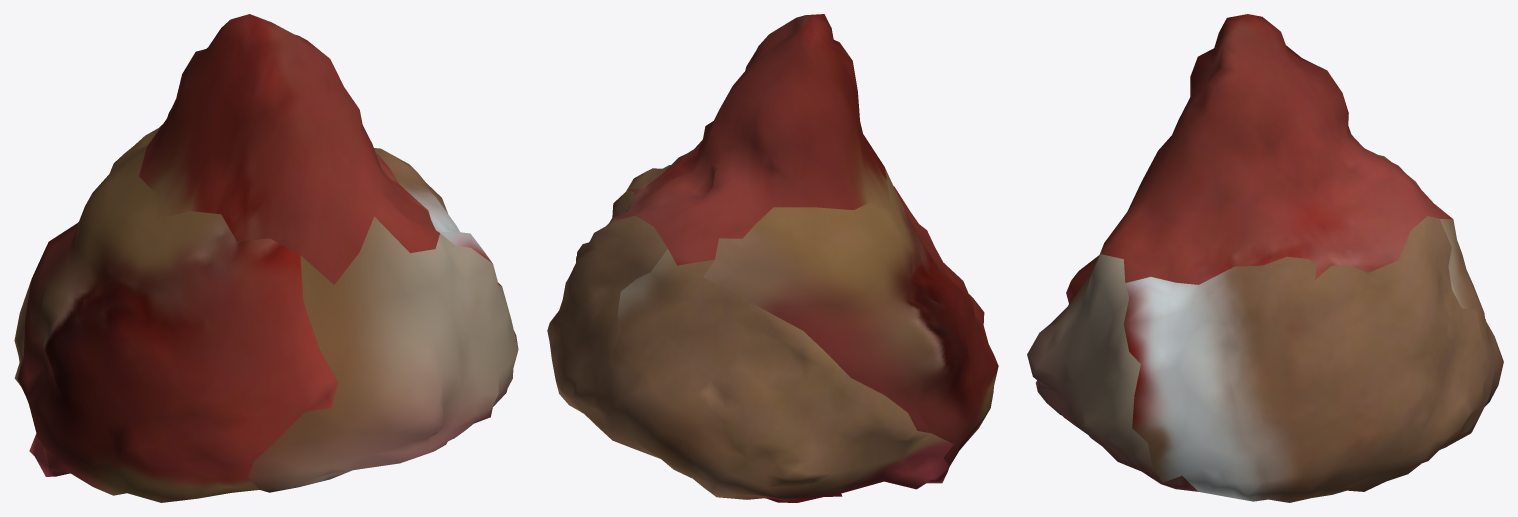
Rendered from yam_peek.fbx.
The picture shows the model from 3 angles, left to right: view 1: azimuth 30°, elevation 25°; view 2: azimuth 150°, elevation 25°; view 3: azimuth 270°, elevation 25°; orthographic projection. The views are drawn at different scales.
Parts seen in each view (by area): view 1: yam_vine_base; view 2: yam_vine_base; view 3: yam_vine_base.
Part boxes in pixels (x1,y1,x2,y2): yam_vine_base: [14, 14, 518, 502]; yam_vine_base: [547, 14, 998, 502]; yam_vine_base: [1027, 14, 1503, 502].
Size of the model in its own units: 0.211 by 0.2126 by 0.2174.
